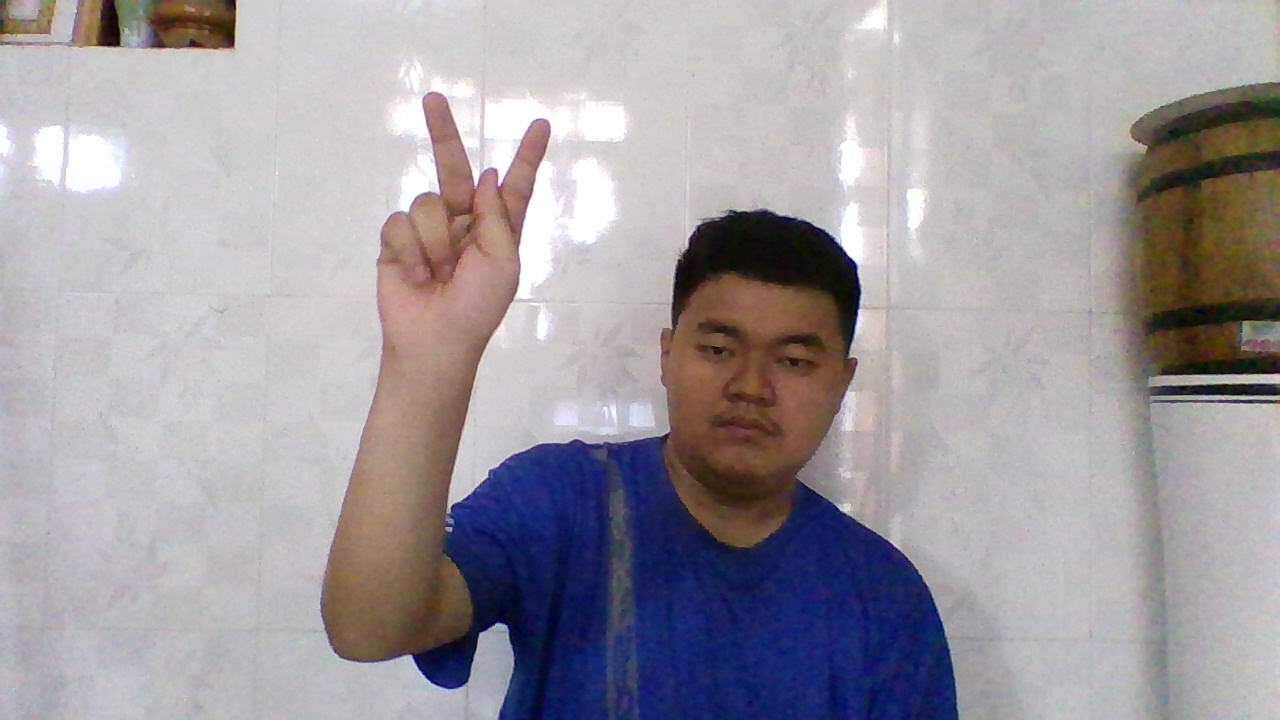K: (379, 84, 555, 352)
